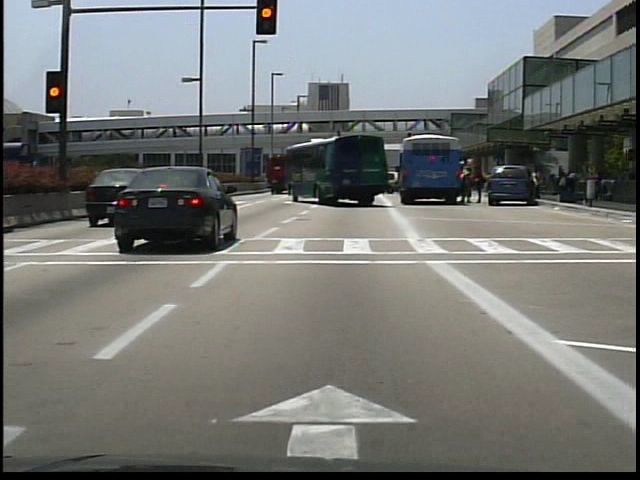person: (461, 163, 476, 204), (471, 163, 485, 206), (529, 168, 542, 206)
